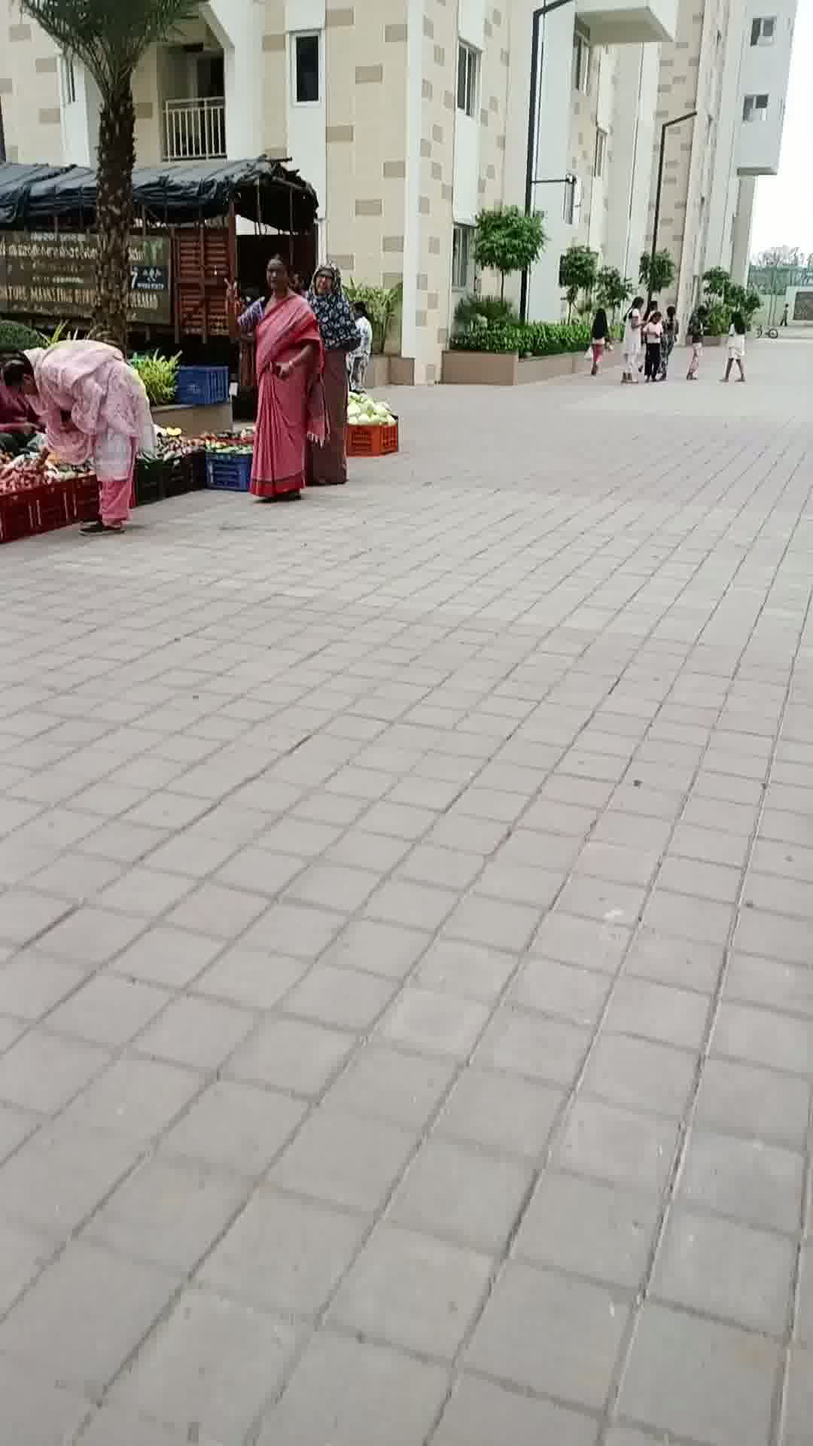person: (0, 344, 191, 563), (241, 225, 320, 525), (300, 241, 346, 517), (679, 292, 713, 394), (585, 295, 620, 389), (623, 284, 649, 403), (646, 305, 674, 397), (727, 298, 752, 388)
tree: (17, 0, 236, 407), (450, 191, 560, 424), (555, 222, 595, 368), (641, 239, 681, 349)
